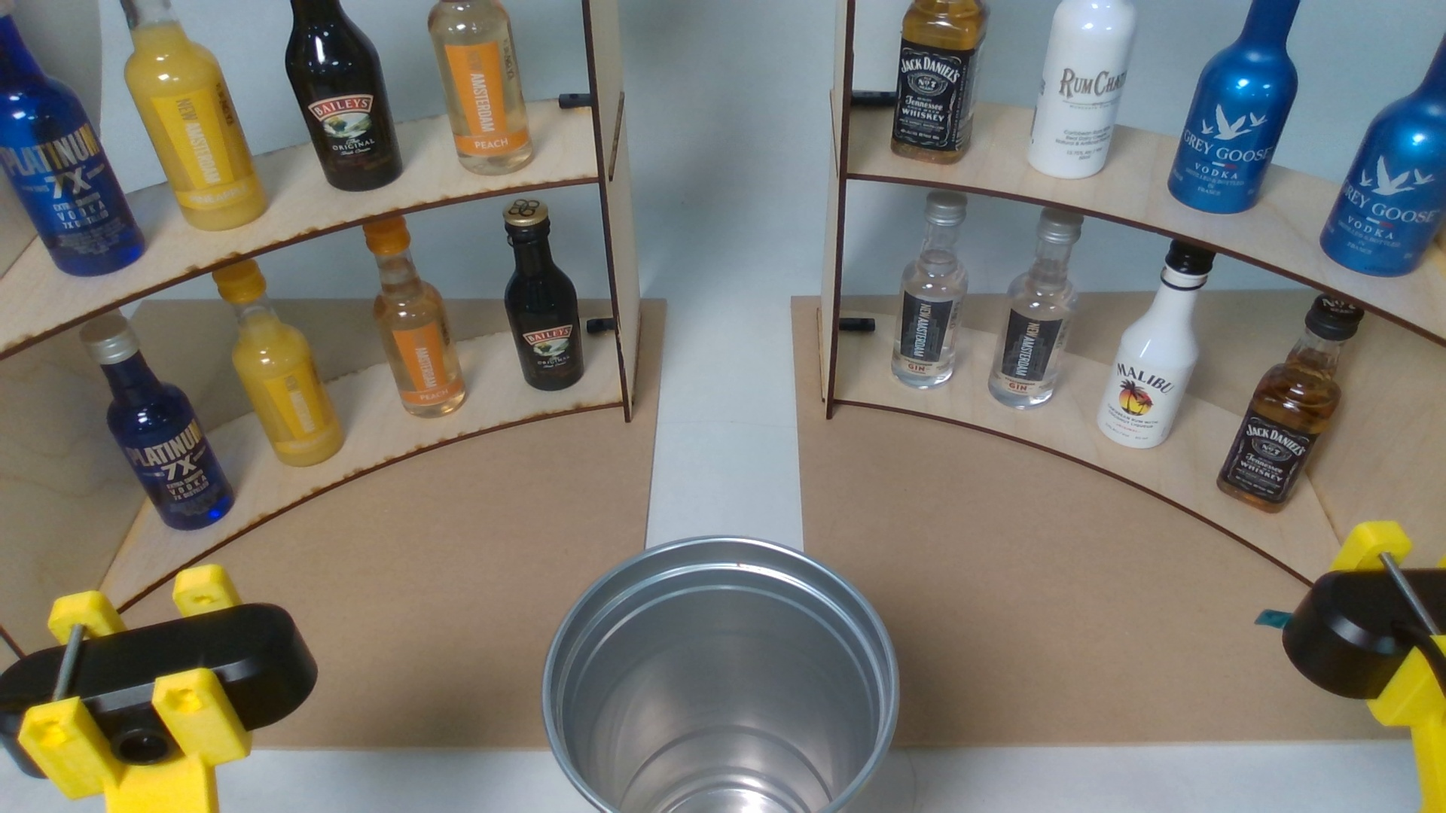coke: (284, 0, 403, 192), (501, 198, 587, 390)
gin: (990, 204, 1083, 411), (890, 190, 969, 391)
ginger_beer: (359, 212, 468, 419), (426, 0, 536, 176)
orange_juice: (123, 0, 268, 232), (210, 258, 348, 469)
tequila: (1101, 236, 1213, 447)
tonic_water: (0, 0, 148, 277), (77, 313, 237, 528)
vodka: (1319, 31, 1446, 279), (1167, 1, 1301, 215)
whiskey: (1218, 291, 1362, 515), (889, 0, 991, 165)
